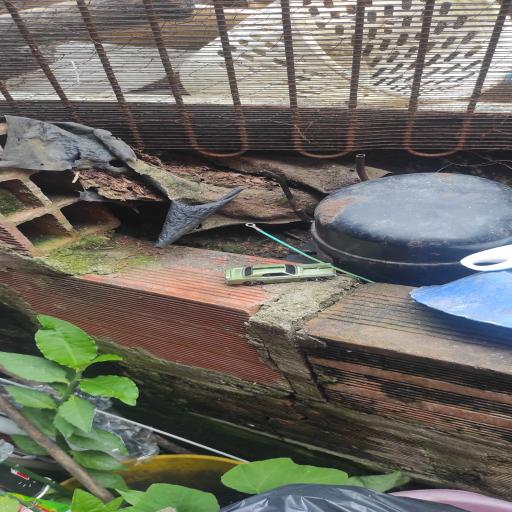Carrito: (225, 264, 336, 286)
